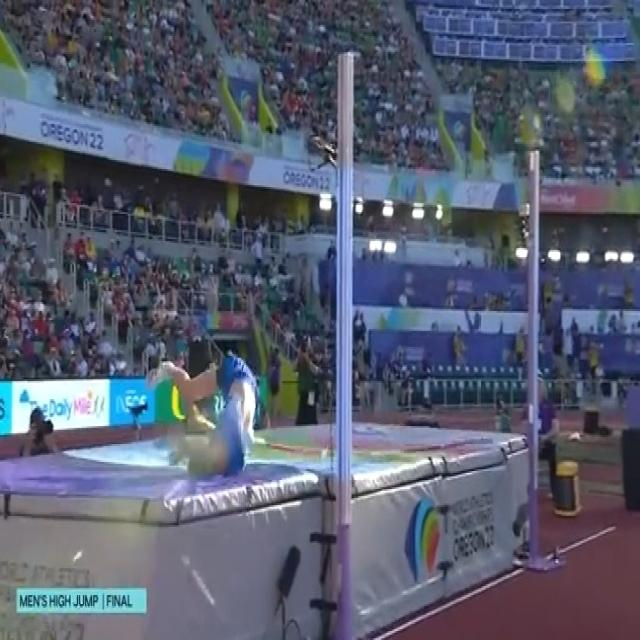land: (151, 358, 261, 479)
